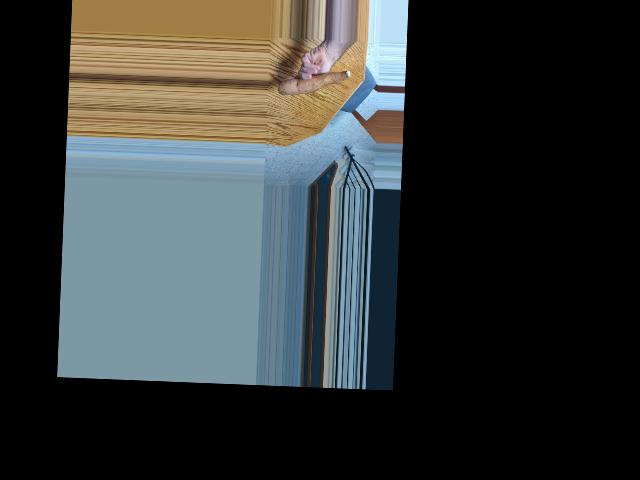sweet_potato: (279, 64, 351, 100)
